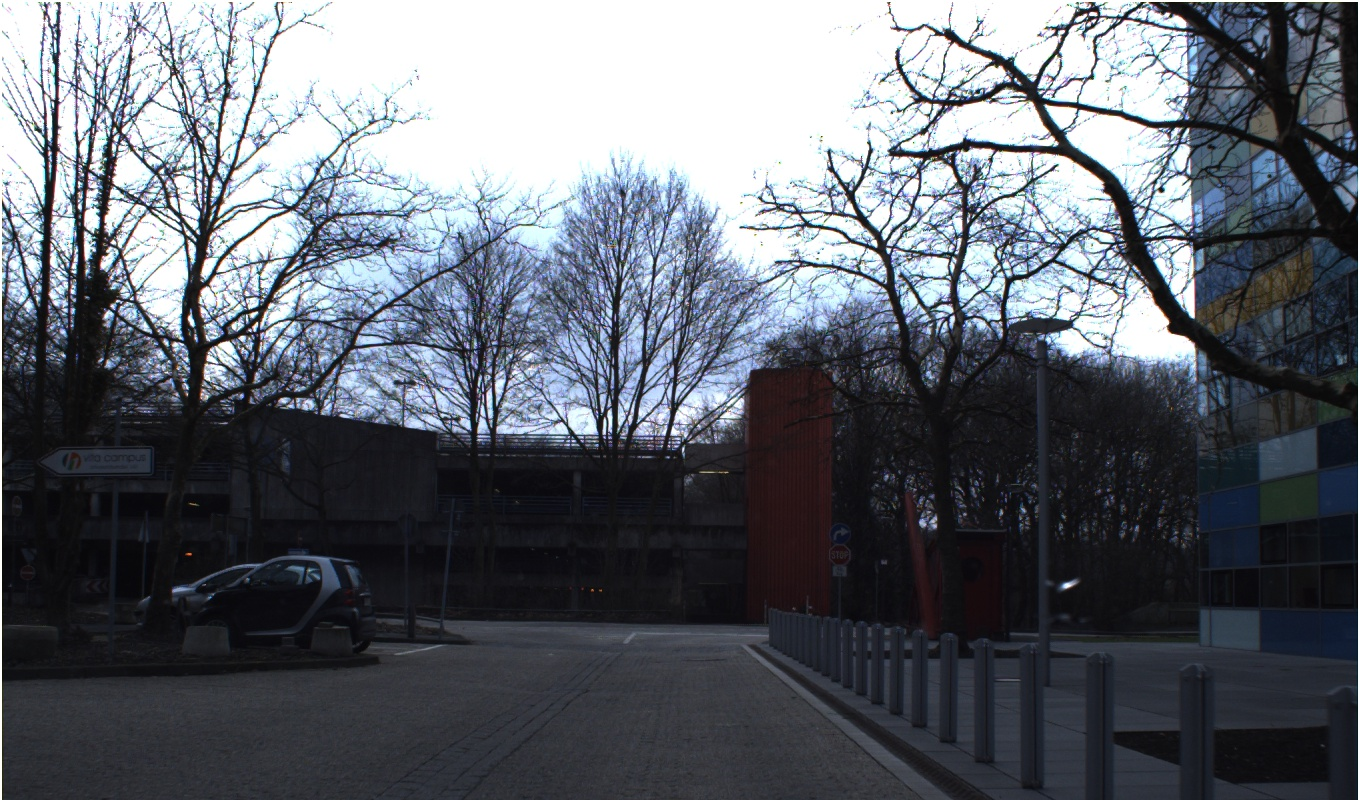car: (236, 578, 374, 643), (135, 560, 274, 623)
stop: (815, 542, 869, 573)
